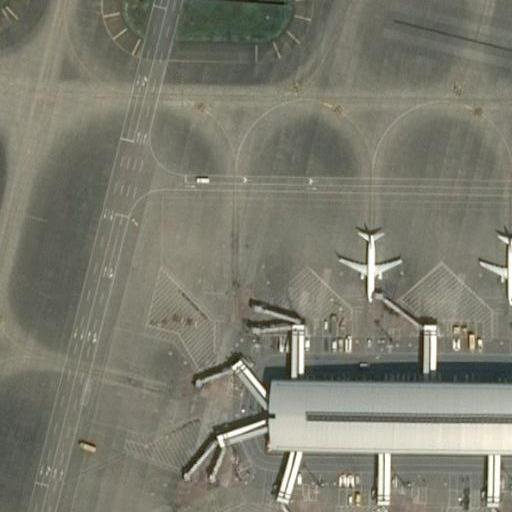Aircraft: (334, 224, 402, 300), (475, 230, 512, 301)
